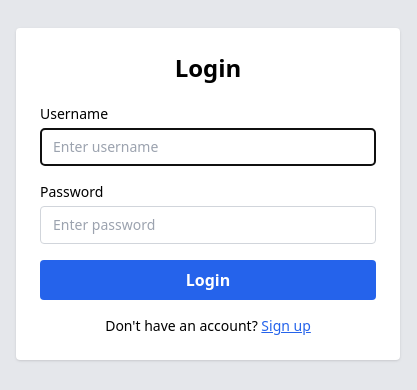
Test: LoginPage Integration › maintains form state during validation
Type "testuser" into the field labelled "Username" at point(208, 147), box [40,128,376,166]
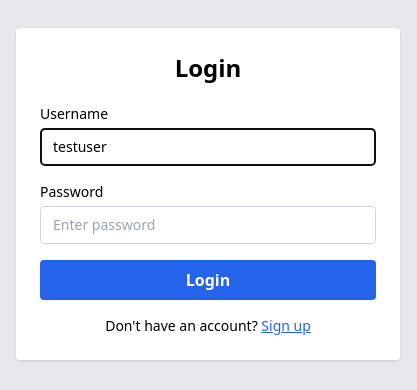
Click the button "Login" at point(208, 280), box [40,260,376,300]
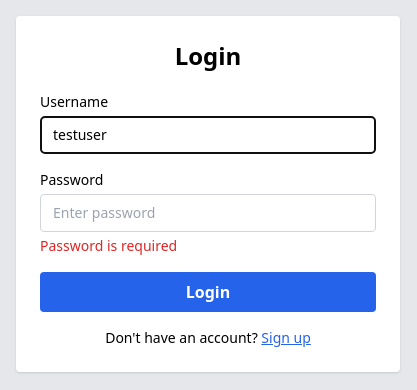
Now the text "Password is required" is shown, box [40,236,177,255]
